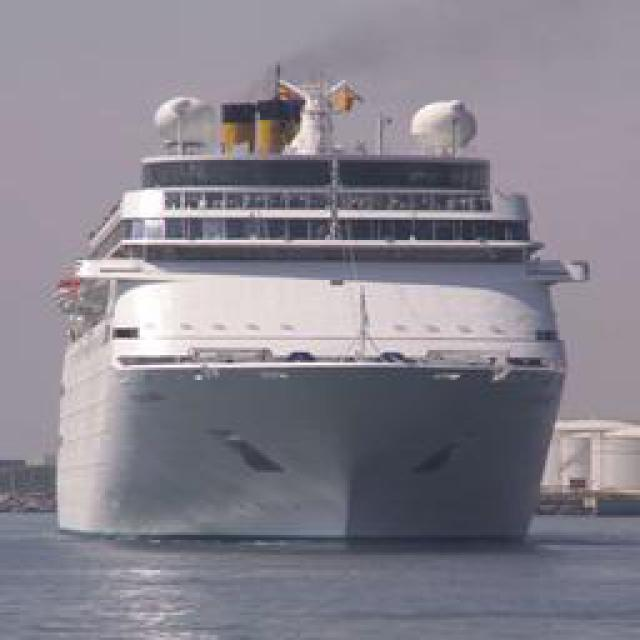Ship: (45, 99, 583, 532)
